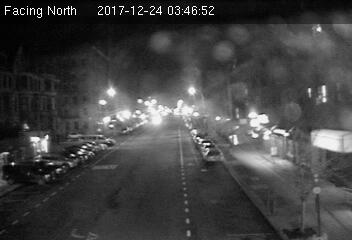car: (203, 147, 223, 163)
